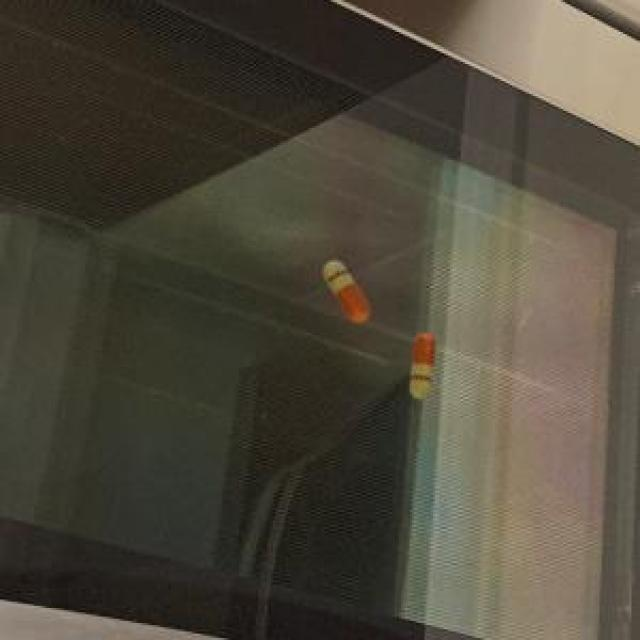Alaxan: (313, 255, 375, 332), (403, 322, 446, 408)
